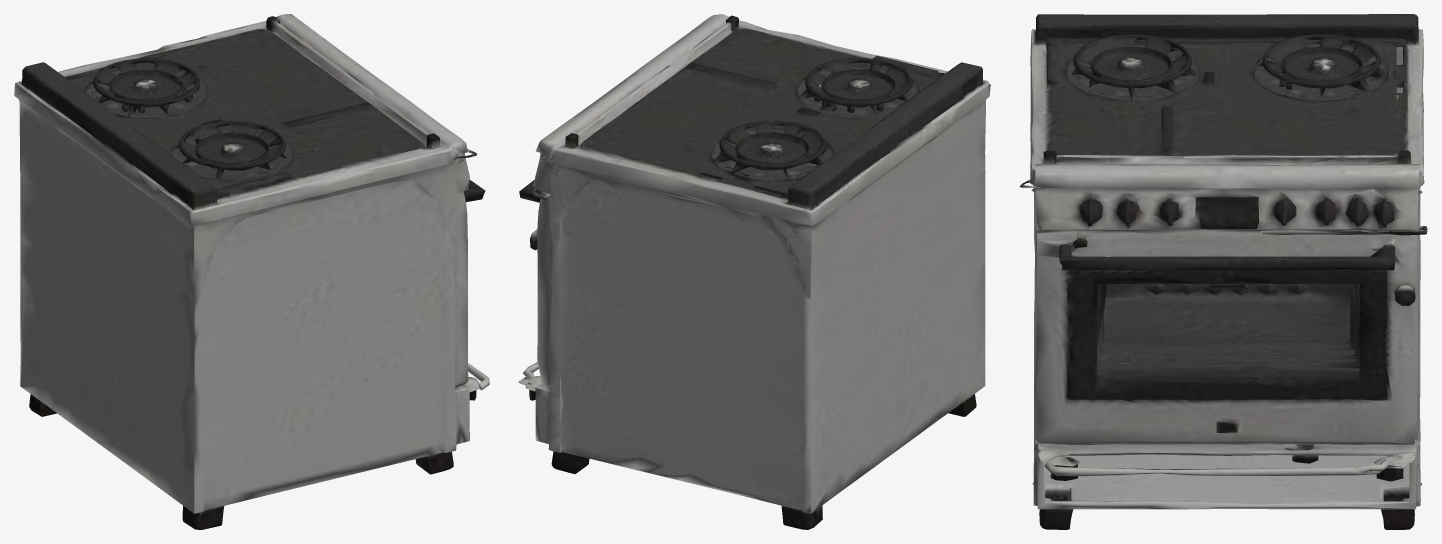
The model's file is prop_stove-BblVxANe.glb.
3 renders of one model, left to right at view 1: azimuth 30°, elevation 25°; view 2: azimuth 150°, elevation 25°; view 3: azimuth 270°, elevation 25°, orthographic. The views are drawn at different scales.
Parts seen in each view (by area): view 1: tripo_node_291228ef-2052-44e0-a10a-ab1209fd1dec; view 2: tripo_node_291228ef-2052-44e0-a10a-ab1209fd1dec; view 3: tripo_node_291228ef-2052-44e0-a10a-ab1209fd1dec.
Boxes of the visible parts, box(x1,y1,x2,y2) form: tripo_node_291228ef-2052-44e0-a10a-ab1209fd1dec: box(14, 14, 489, 529); tripo_node_291228ef-2052-44e0-a10a-ab1209fd1dec: box(518, 14, 990, 529); tripo_node_291228ef-2052-44e0-a10a-ab1209fd1dec: box(1019, 14, 1427, 529).
Bounding box in the file's own units: 0.9482 × 0.9987 × 0.9782.
Materials: 1 (1 with a texture image).
